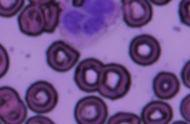N: (58, 0, 122, 47)
